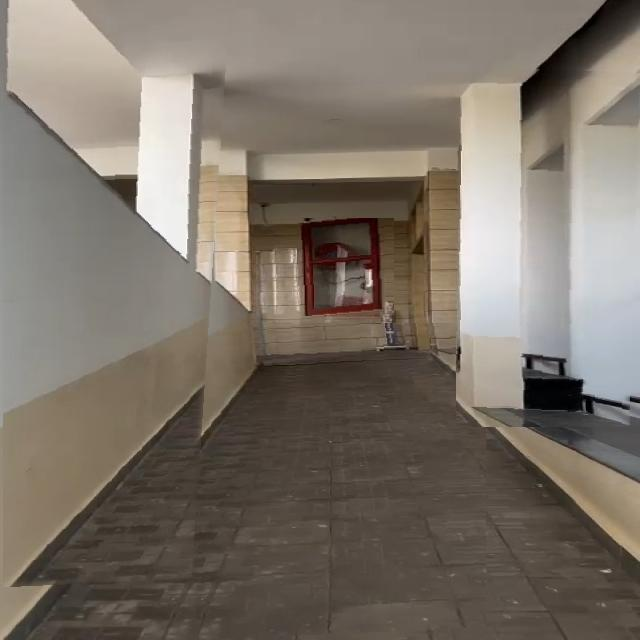door: (291, 218, 394, 323)
floor: (166, 323, 486, 640)
wall: (3, 0, 231, 589), (456, 66, 640, 427)
